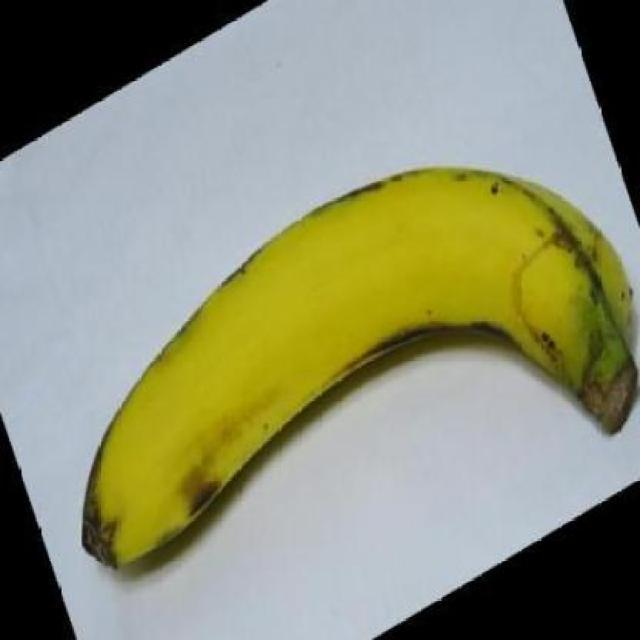ripe: (56, 152, 640, 591)
